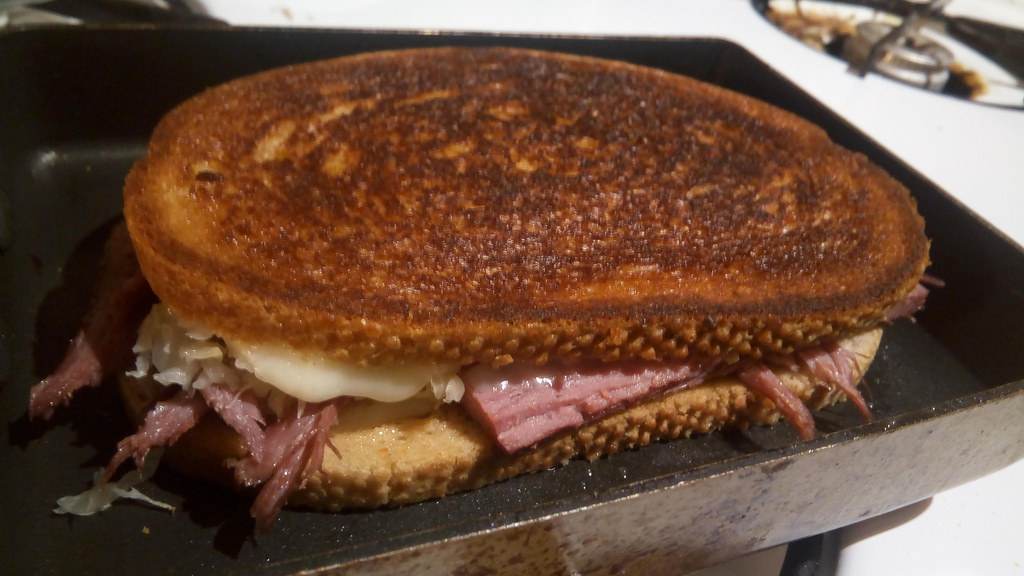slice of bread: (134, 46, 939, 370)
